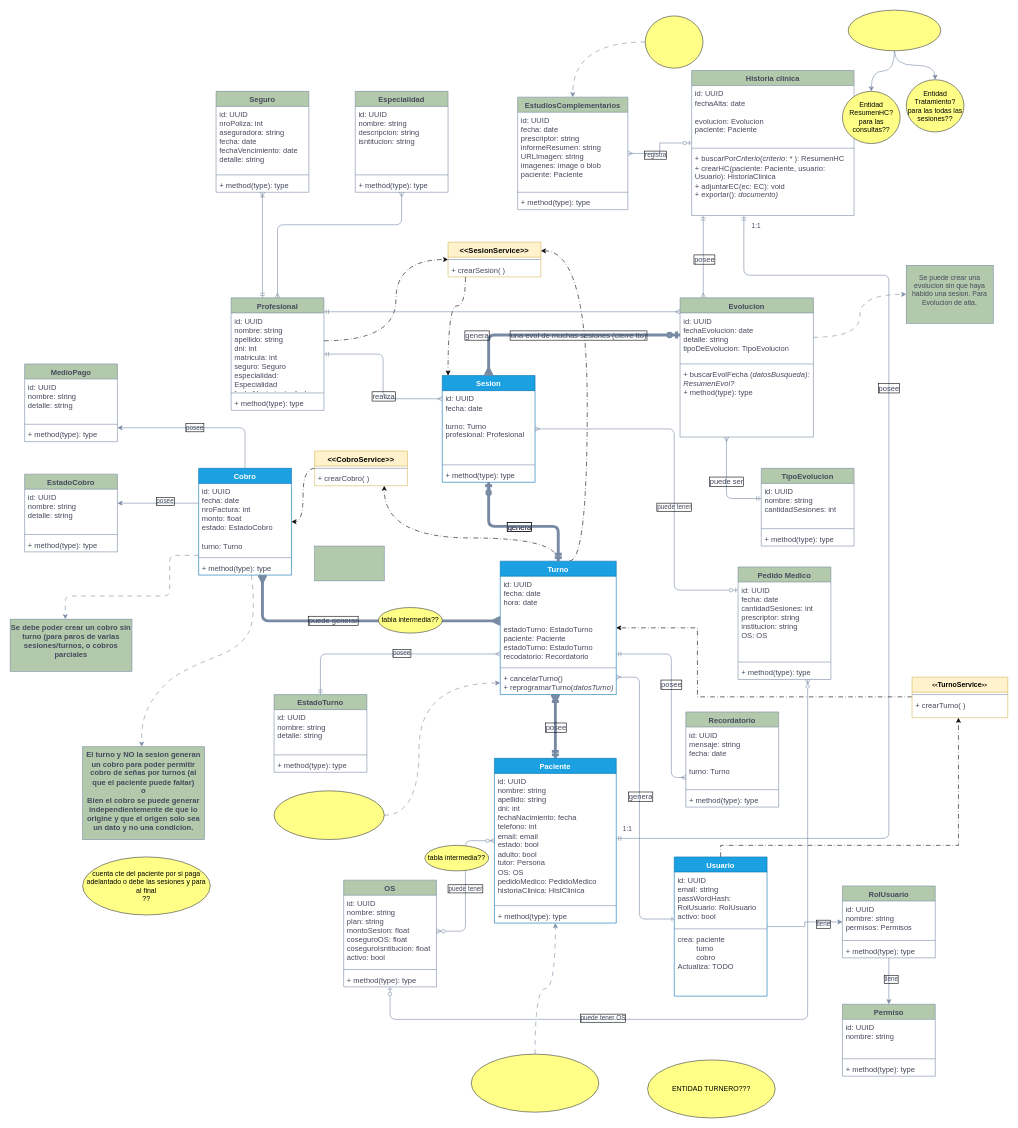
Some shapes in this 1018 by 1128 pixel diagram are drawn without their labels. Each missing label, with the centre of its shape:
"= EC" goes at [674,41].
"CONSULTAS DE HC" goes at [894,30].
"si el paciente es menor? Figura del padre/tutor entidad Persona?" goes at [535,1083].
"tipo de turno? recurrente, espontaneo, continuacion de tratamiento..." goes at [328,815].
"Una sesión puede tener varios cobros o un cobro puede ser por varias sesiones" goes at [349,563].
